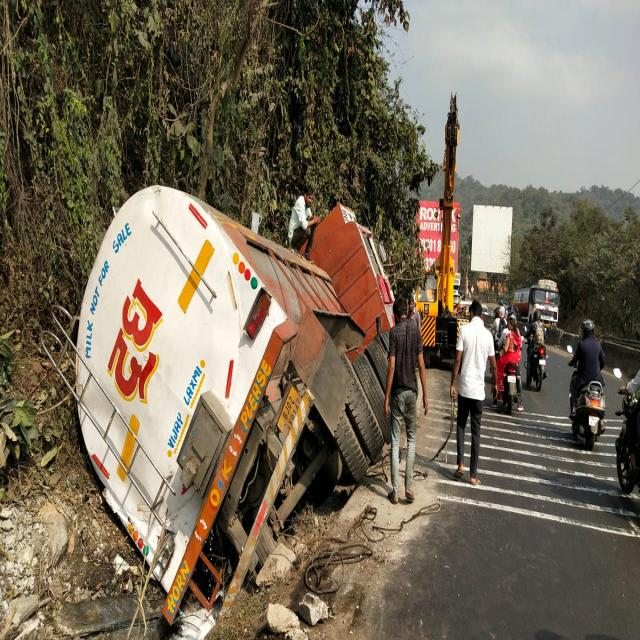accident: (42, 187, 394, 622)
motorcycle: (569, 320, 605, 449), (496, 313, 522, 413), (526, 311, 546, 390)
truck: (415, 96, 469, 361)
